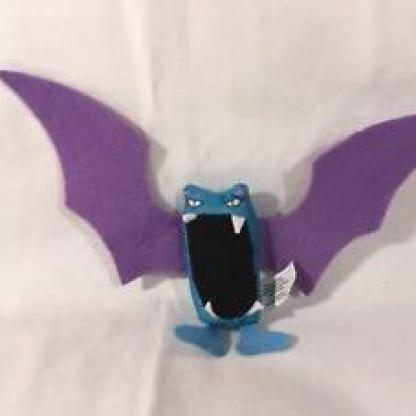Golbat: (1, 55, 415, 371)
